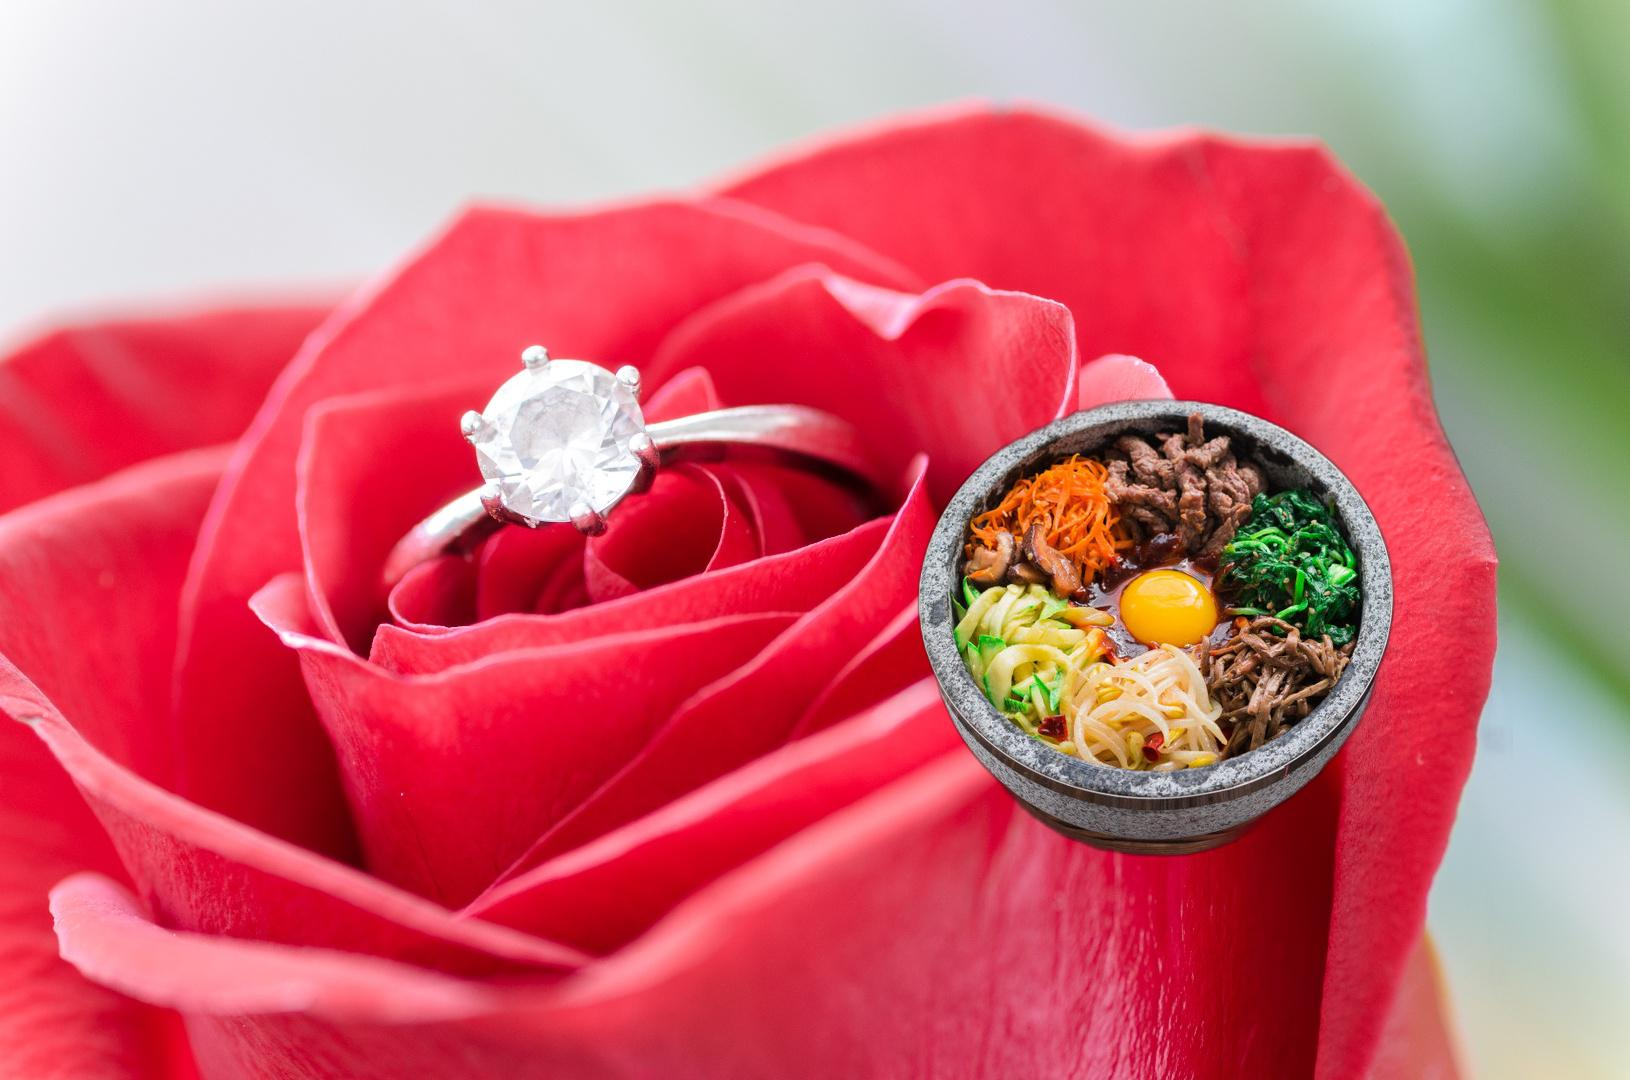biological: (913, 190, 1513, 1019)
